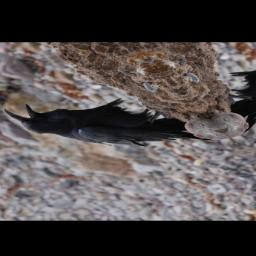Crow: (3, 76, 216, 174)
